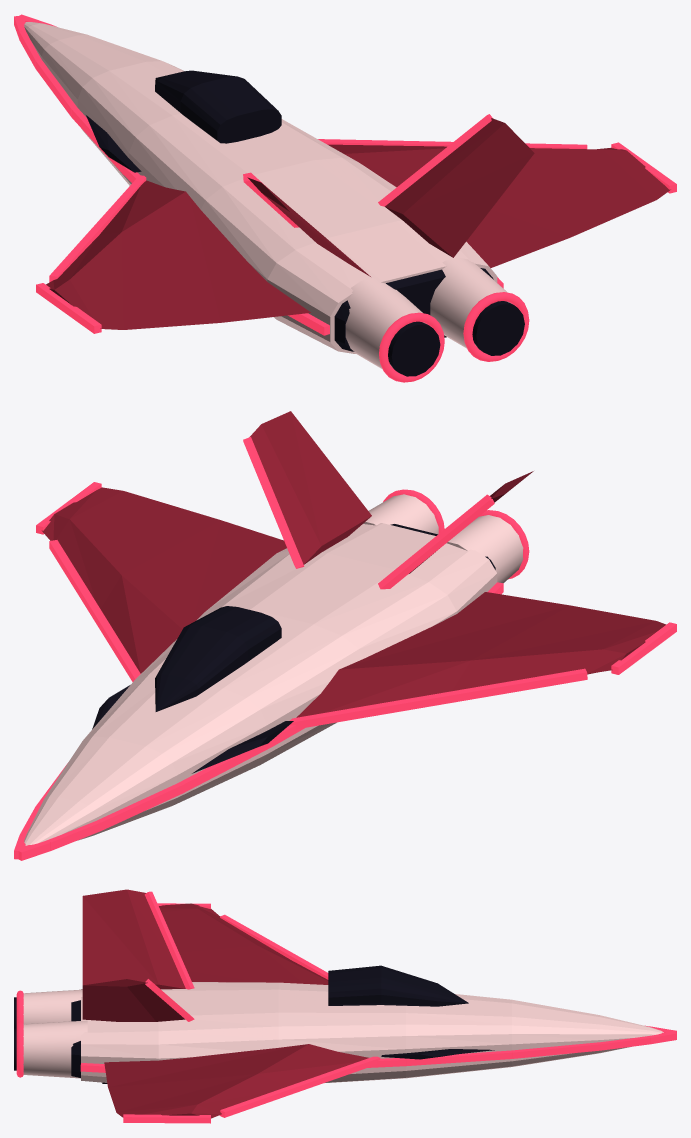
The model's file is player_crimson.glb.
The picture shows the model from 3 angles, top to bottom: view 1: azimuth 30°, elevation 25°; view 2: azimuth 150°, elevation 25°; view 3: azimuth 270°, elevation 25°; orthographic projection. The views are drawn at different scales.
Parts seen in each view (by area): view 1: fuselage, wing_port, wing_starboard, tail_fin_starboard, canopy_recess, nozzle_housing_port, nozzle_housing_starboard, nozzle_throat_port, nozzle_throat_starboard, aft_plate, nozzle_trim_port, nozzle_trim_starboard (+7 smaller); view 2: fuselage, wing_starboard, wing_port, tail_fin_starboard, canopy_recess, wing_edge_trim_port, nozzle_housing_port, wing_edge_trim_starboard, nozzle_housing_starboard, tail_fin_trim_port, tail_fin_trim_starboard, hull_trim_port_3 (+3 smaller); view 3: fuselage, wing_starboard, tail_fin_port, wing_port, canopy_recess, tail_fin_starboard, nozzle_housing_starboard, nozzle_housing_port, wing_edge_trim_starboard, tail_fin_trim_port, hull_trim_starboard_4, wing_edge_trim_port (+7 smaller).
Boxes of the visible parts, box(x1,y1,x2,y2) form: fuselage: box(24, 22, 497, 353); wing_port: box(46, 180, 310, 329); wing_starboard: box(328, 144, 670, 267); tail_fin_starboard: box(385, 118, 534, 257); canopy_recess: box(155, 70, 281, 143); nozzle_housing_port: box(345, 278, 425, 368); nozzle_housing_starboard: box(430, 257, 511, 348); nozzle_throat_port: box(388, 321, 440, 376); nozzle_throat_starboard: box(472, 301, 524, 355); aft_plate: box(334, 268, 493, 351); nozzle_trim_port: box(379, 312, 444, 382); nozzle_trim_starboard: box(463, 292, 529, 361); fuselage: box(24, 523, 497, 845); wing_starboard: box(41, 487, 286, 673); wing_port: box(296, 592, 666, 717); tail_fin_starboard: box(250, 411, 371, 564); canopy_recess: box(155, 606, 281, 711); wing_edge_trim_port: box(289, 668, 587, 729); nozzle_housing_port: box(446, 515, 523, 583); wing_edge_trim_starboard: box(49, 540, 140, 681); nozzle_housing_starboard: box(363, 494, 438, 534); tail_fin_trim_port: box(378, 494, 494, 589); tail_fin_trim_starboard: box(243, 437, 304, 568); hull_trim_port_3: box(97, 783, 182, 830); fuselage: box(81, 982, 663, 1083); wing_starboard: box(104, 1044, 368, 1118); tail_fin_port: box(82, 889, 185, 989); wing_port: box(159, 903, 328, 984); canopy_recess: box(328, 965, 468, 1006); tail_fin_starboard: box(82, 979, 185, 1021); nozzle_housing_starboard: box(23, 1020, 87, 1078); nozzle_housing_port: box(23, 989, 82, 1024); wing_edge_trim_starboard: box(219, 1056, 380, 1117); tail_fin_trim_port: box(144, 891, 194, 989); hull_trim_starboard_4: box(406, 1050, 512, 1065); wing_edge_trim_port: box(220, 914, 328, 979).
Bounding box in the file's own units: 7.17 × 2.19 × 9.39.
